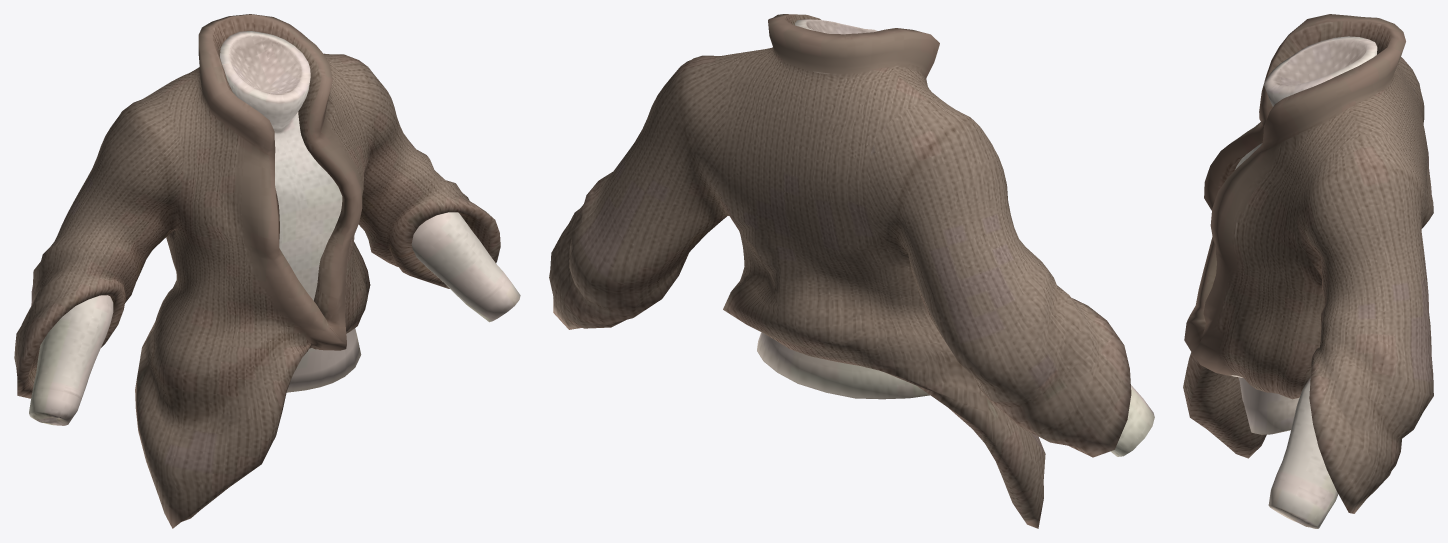
3 views of the same model, side by side, from view 1: azimuth 30°, elevation 25°; view 2: azimuth 150°, elevation 25°; view 3: azimuth 270°, elevation 25° (orthographic). The views are drawn at different scales.
Visible parts, largest first — view 1: Wolf3D_Outfit_Top; view 2: Wolf3D_Outfit_Top; view 3: Wolf3D_Outfit_Top.
Boxes of the visible parts, x1,y1,x2,y2 form: Wolf3D_Outfit_Top: (14,14,520,528); Wolf3D_Outfit_Top: (549,14,1154,528); Wolf3D_Outfit_Top: (1183,14,1433,528).
Size of the model in its own units: 0.8824 by 0.7554 by 0.35.
1 material, 1 textured.
